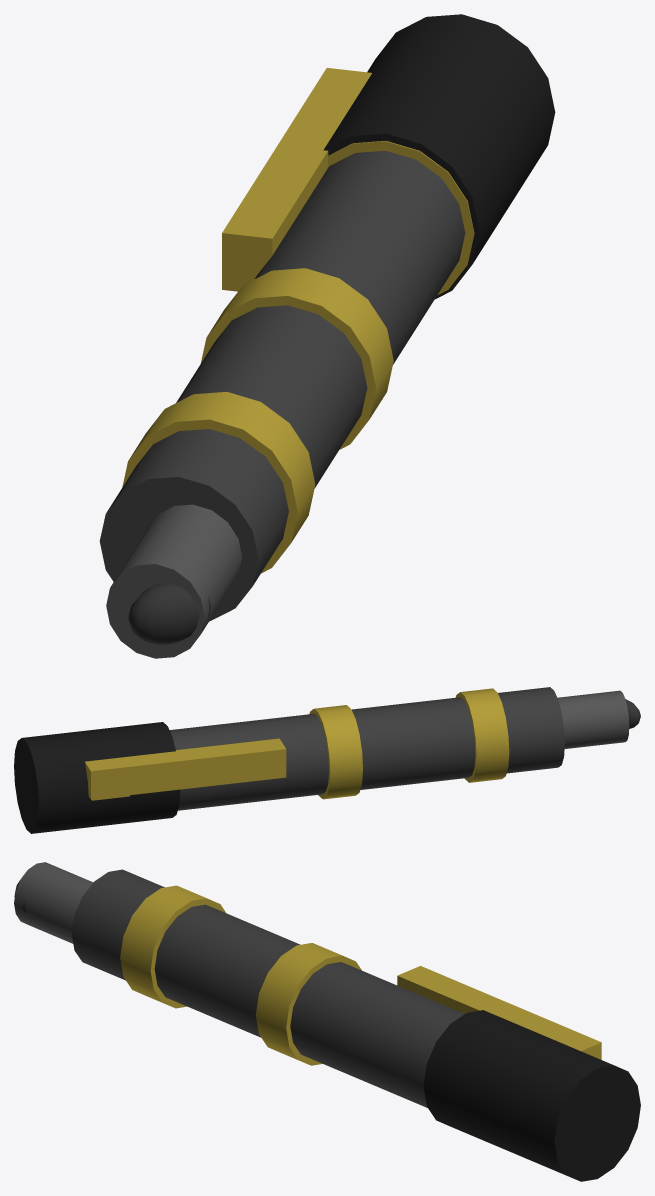
File: CMU3DCMPenClickyInheritedMiscCloud.glb
The picture shows the model from 3 angles, top to bottom: view 1: azimuth 30°, elevation 25°; view 2: azimuth 150°, elevation 25°; view 3: azimuth 270°, elevation 25°; orthographic projection. The views are drawn at different scales.
Visible parts, largest first — view 1: continuous black pen barrel, upper cap, side pocket clip, tapered nib shoulder, gold barrel ring 1, gold barrel ring 0, writing tip, gold barrel ring 2; view 2: continuous black pen barrel, upper cap, side pocket clip, tapered nib shoulder, gold barrel ring 0, gold barrel ring 1, writing tip; view 3: continuous black pen barrel, upper cap, gold barrel ring 1, gold barrel ring 0, side pocket clip, tapered nib shoulder.
Boxes of the visible parts, left/top/right/bottom form: continuous black pen barrel: left=99, top=150, right=465, bottom=621; upper cap: left=323, top=14, right=555, bottom=299; side pocket clip: left=222, top=68, right=371, bottom=291; tapered nib shoulder: left=106, top=504, right=242, bottom=658; gold barrel ring 1: left=200, top=268, right=393, bottom=449; gold barrel ring 0: left=122, top=391, right=315, bottom=573; writing tip: left=128, top=583, right=210, bottom=644; gold barrel ring 2: left=328, top=141, right=474, bottom=295; continuous black pen barrel: left=169, top=687, right=564, bottom=810; upper cap: left=14, top=722, right=180, bottom=833; side pocket clip: left=85, top=738, right=286, bottom=799; tapered nib shoulder: left=557, top=690, right=629, bottom=748; gold barrel ring 0: left=455, top=688, right=509, bottom=782; gold barrel ring 1: left=309, top=705, right=362, bottom=799; writing tip: left=625, top=699, right=640, bottom=728; continuous black pen barrel: left=71, top=869, right=464, bottom=1107; upper cap: left=423, top=1010, right=640, bottom=1181; gold barrel ring 1: left=255, top=943, right=361, bottom=1065; gold barrel ring 0: left=120, top=885, right=225, bottom=1008; side pocket clip: left=397, top=966, right=601, bottom=1059; tapered nib shoulder: left=14, top=862, right=93, bottom=943.
Size of the model in its own units: 0.3713 by 0.074 by 0.3792.
